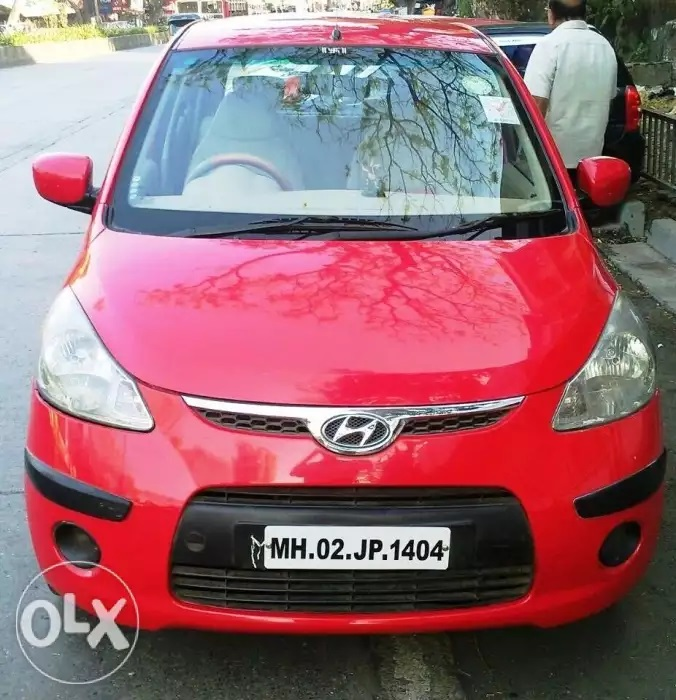licenseplate: (251, 519, 454, 570)
